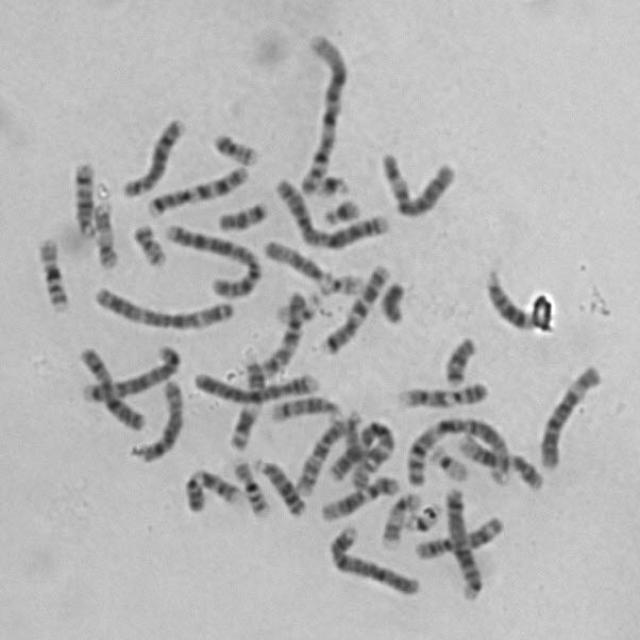A1: (295, 30, 351, 197), (402, 410, 513, 490)
A2: (270, 172, 392, 250), (158, 217, 262, 301)
A3: (89, 280, 236, 333), (330, 418, 398, 488)
B4: (324, 520, 422, 598), (189, 365, 321, 404)
B5: (79, 341, 184, 404), (440, 482, 485, 601)
C10: (291, 412, 351, 498), (256, 287, 308, 379)
C11: (410, 510, 507, 561), (222, 351, 267, 453)
C12: (453, 429, 546, 493), (316, 470, 402, 522)
C6: (534, 358, 605, 471), (374, 147, 459, 219)
C7: (318, 260, 390, 356), (143, 159, 251, 218)
C8: (118, 112, 188, 200), (135, 375, 185, 465)
C9: (393, 376, 492, 411), (180, 464, 244, 514)
D13: (248, 451, 309, 518), (480, 264, 537, 333)
D14: (265, 391, 344, 425), (68, 157, 98, 239)
D15: (258, 234, 332, 285), (343, 407, 370, 490)
E16: (32, 231, 72, 313), (229, 454, 272, 519)
E17: (378, 486, 423, 550), (89, 196, 121, 271)
E18: (439, 330, 480, 388), (214, 196, 270, 234)
F19: (424, 440, 471, 483), (398, 499, 443, 533)
F20: (208, 127, 262, 167), (128, 217, 169, 268)
G21: (318, 194, 363, 227), (312, 168, 352, 198)
G22: (398, 499, 443, 533), (314, 270, 366, 298)
X: (72, 341, 148, 433)
Y: (376, 277, 408, 325)
